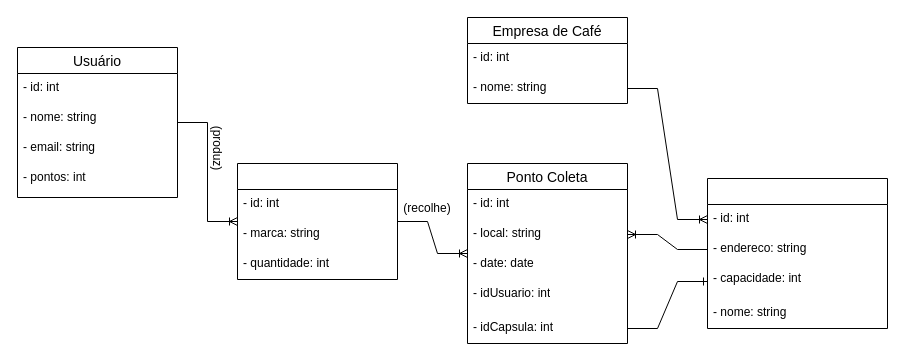
This 905x364 diagram has some shape labels left out. Each missing label, with the box of its shape:
Cápsulas: (236, 162, 398, 280)
Terceirizada de Reciclagem: (706, 178, 888, 328)
